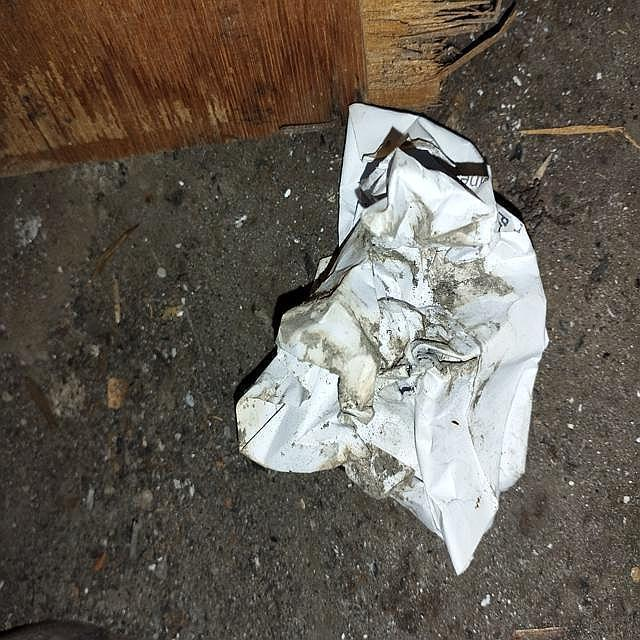Biodegradable: (239, 102, 546, 572)
